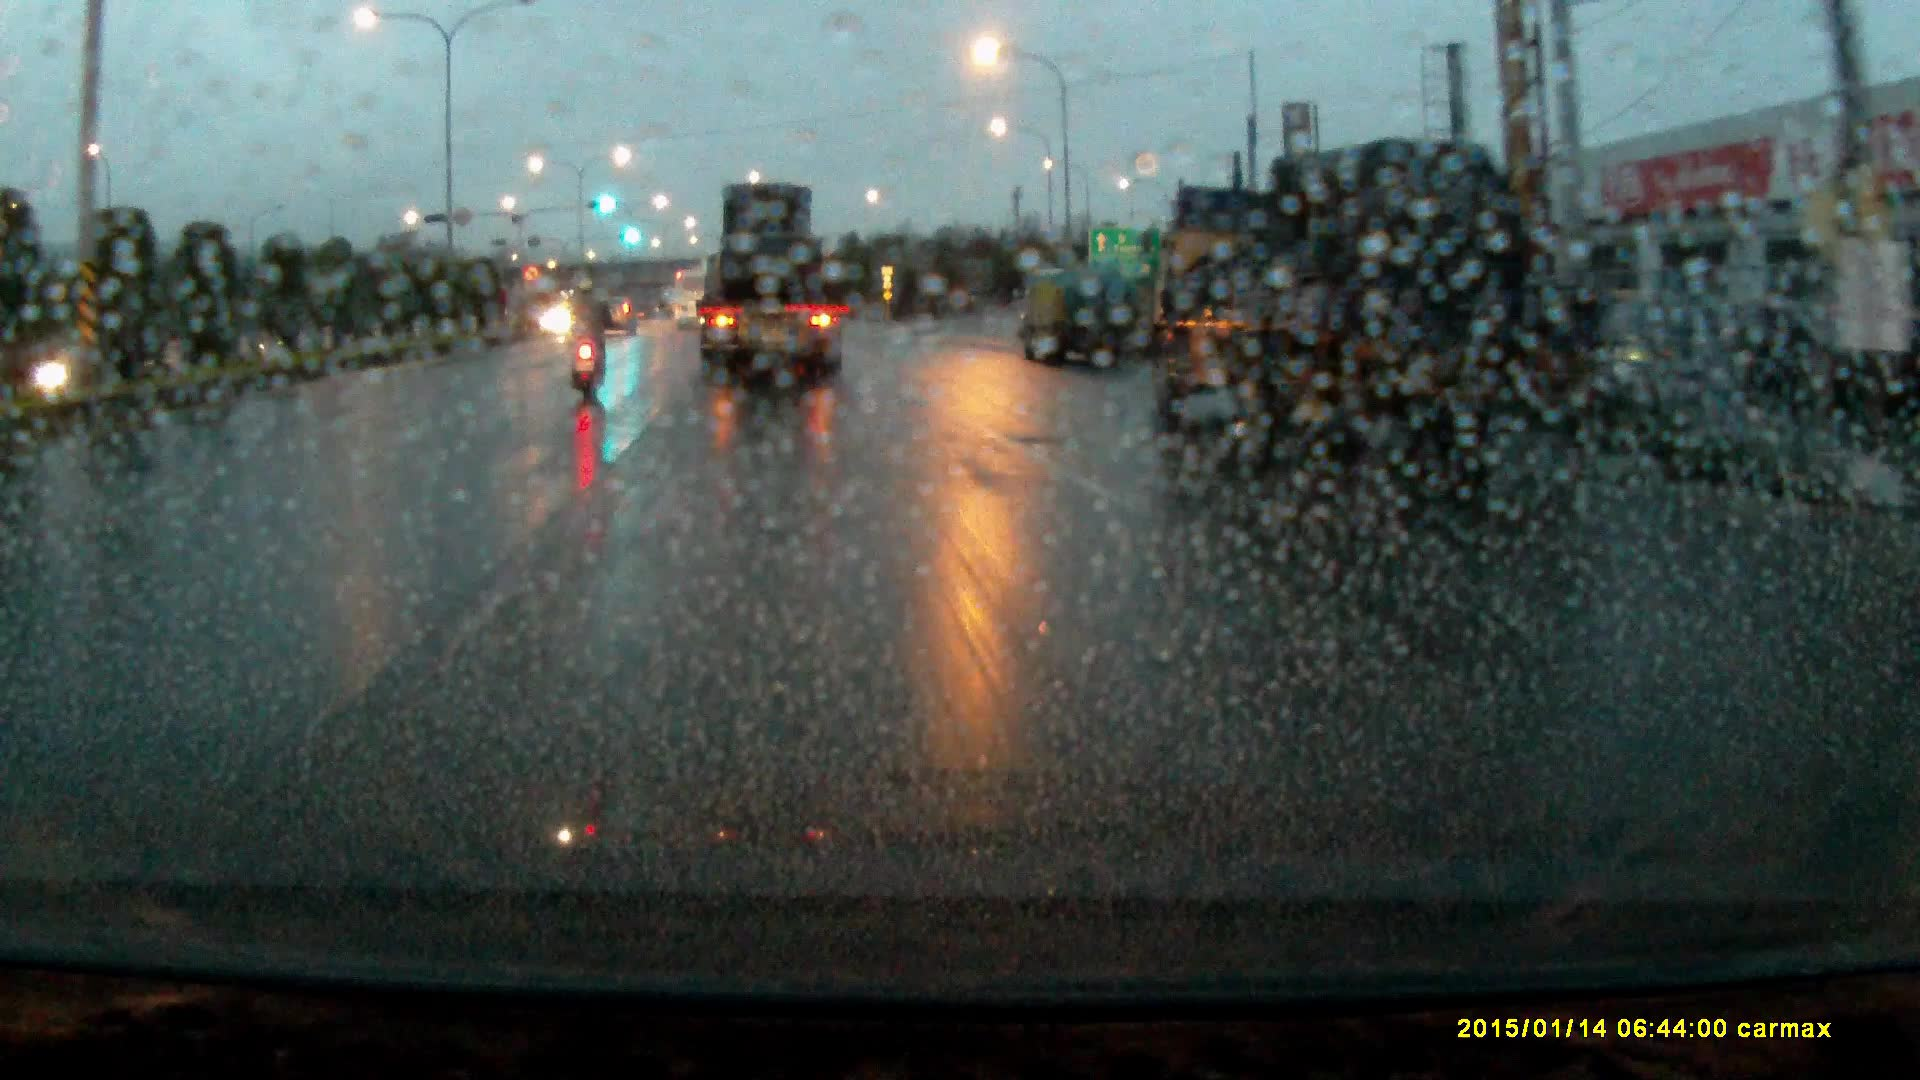rider: (563, 272, 616, 405)
vehicle: (1158, 149, 1540, 469), (693, 181, 849, 385), (1014, 268, 1138, 369), (674, 270, 708, 331), (596, 287, 640, 331)
